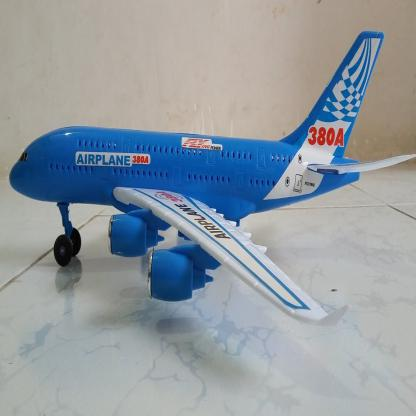CIV_Plane: (7, 27, 414, 328)
